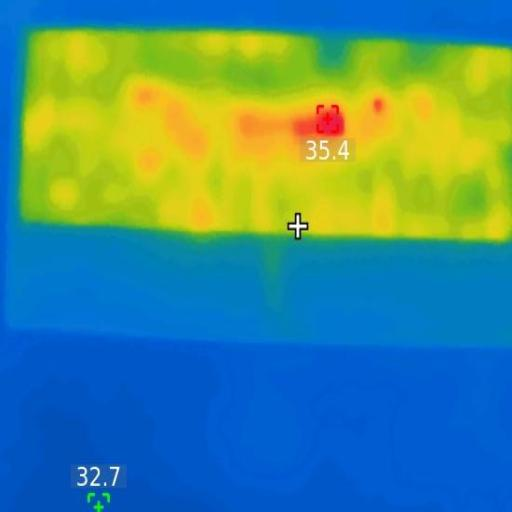hotspot: (313, 109, 346, 136)
